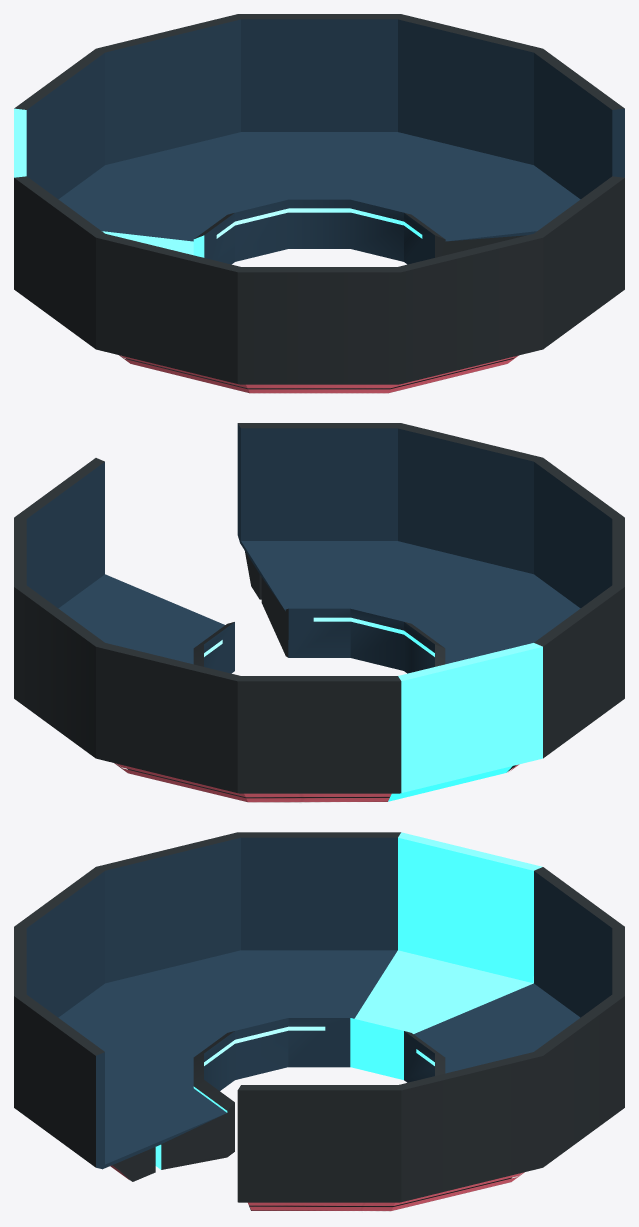
The model's file is aero-station-yellow-ring-art.glb.
The picture shows the model from 3 angles, top to bottom: view 1: azimuth 30°, elevation 25°; view 2: azimuth 150°, elevation 25°; view 3: azimuth 270°, elevation 25°; orthographic projection.
Visible parts, largest first — view 1: Aero_Station_YellowRing_Art; view 2: Aero_Station_YellowRing_Art; view 3: Aero_Station_YellowRing_Art.
Boxes of the visible parts, x1,y1,x2,y2 form: Aero_Station_YellowRing_Art: [14, 14, 624, 393]; Aero_Station_YellowRing_Art: [14, 423, 624, 802]; Aero_Station_YellowRing_Art: [14, 832, 624, 1211].
Size of the model in its own units: 10.88 by 3.09 by 10.88.
5 materials, 2 textured.
